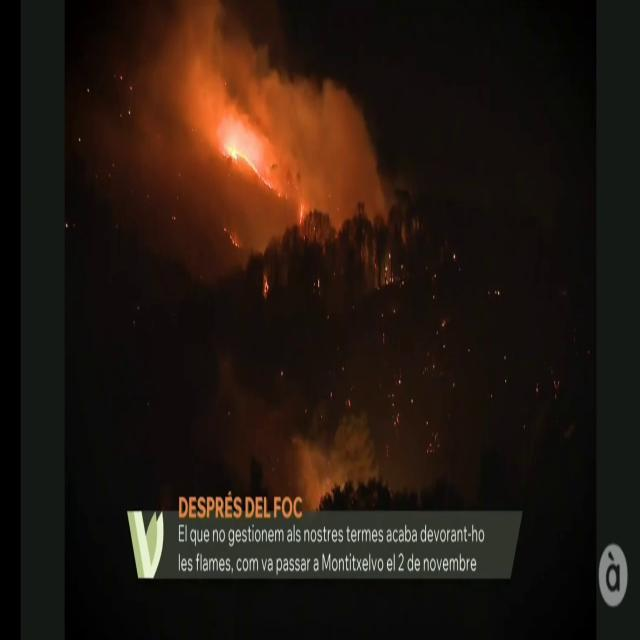Fire: (215, 121, 259, 185)
Smoke: (143, 0, 385, 234)
